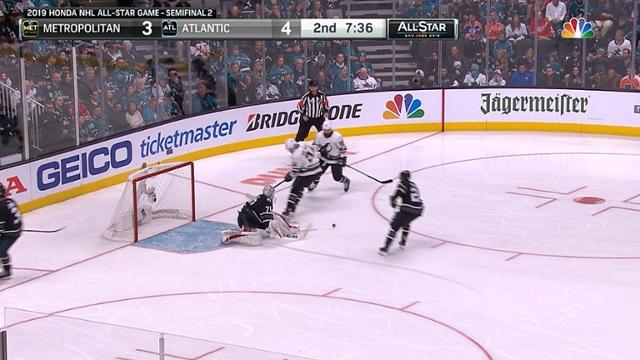geico: (31, 144, 138, 190)
